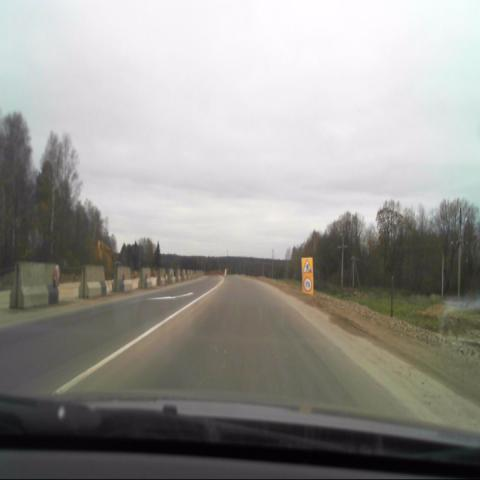1_25: (302, 258, 312, 274)
3_24: (302, 275, 312, 293)
